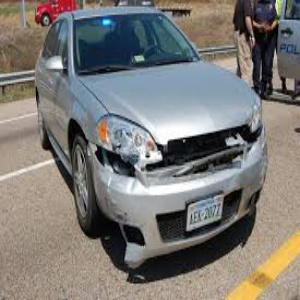bumper: (94, 165, 220, 269)
head_lights: (93, 114, 162, 170)
